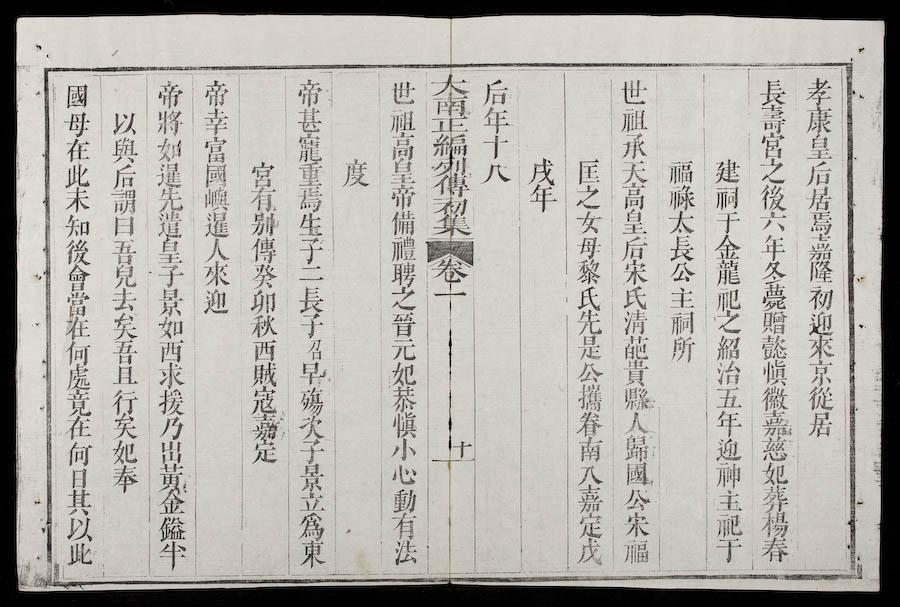c: (428, 72, 472, 98), (429, 134, 470, 159), (802, 75, 834, 106), (340, 157, 371, 189), (430, 174, 471, 198), (430, 215, 472, 238), (431, 257, 468, 283), (295, 540, 328, 569), (153, 287, 186, 316), (756, 77, 789, 106), (293, 77, 324, 107), (574, 538, 606, 567), (156, 541, 188, 570), (153, 79, 185, 108), (803, 106, 836, 134), (155, 465, 188, 493), (152, 108, 185, 136), (758, 411, 793, 437), (428, 97, 471, 118), (200, 78, 231, 107), (480, 78, 511, 107), (295, 386, 326, 415), (526, 157, 557, 186), (108, 387, 140, 415), (108, 465, 140, 493), (758, 283, 790, 311), (712, 462, 744, 490), (248, 387, 280, 415), (155, 387, 187, 415), (248, 414, 281, 441), (757, 537, 791, 563), (247, 211, 281, 237), (156, 439, 187, 467), (805, 411, 836, 439), (109, 312, 140, 340), (296, 463, 327, 491), (757, 105, 788, 133), (293, 134, 324, 162), (247, 160, 278, 188), (200, 108, 231, 136), (618, 78, 649, 106), (295, 285, 326, 313), (711, 157, 742, 185), (621, 435, 653, 462), (803, 134, 835, 161), (294, 237, 326, 264), (295, 513, 327, 540), (620, 539, 652, 566), (620, 511, 652, 538), (154, 211, 186, 238), (757, 184, 789, 211), (152, 238, 185, 264), (247, 237, 280, 263), (388, 79, 418, 107), (387, 133, 417, 161), (62, 264, 93, 291), (62, 363, 93, 390), (63, 488, 94, 515), (618, 107, 649, 134), (575, 486, 606, 513), (757, 132, 788, 159), (575, 384, 606, 411), (713, 410, 744, 437), (201, 211, 232, 238), (665, 158, 696, 185), (63, 515, 95, 541), (62, 390, 94, 416), (156, 515, 188, 541), (621, 461, 653, 487), (804, 360, 836, 386), (61, 238, 93, 264), (758, 360, 790, 386), (526, 186, 558, 212), (758, 335, 790, 361), (665, 185, 697, 211), (758, 512, 791, 537), (153, 137, 186, 162), (429, 158, 472, 177), (62, 81, 91, 109), (109, 109, 139, 136), (390, 539, 420, 566), (109, 136, 139, 163), (200, 136, 230, 163), (201, 288, 231, 315), (389, 487, 419, 514), (713, 260, 743, 287), (713, 335, 743, 362), (667, 337, 697, 364), (667, 235, 697, 262), (389, 411, 419, 438), (109, 414, 140, 440), (293, 107, 324, 133), (386, 161, 417, 187), (759, 486, 790, 512), (109, 439, 140, 465), (61, 110, 92, 136), (575, 437, 606, 463), (805, 285, 836, 311), (574, 411, 605, 437), (201, 261, 232, 287), (618, 134, 649, 160), (248, 263, 279, 289), (759, 386, 790, 412), (803, 186, 835, 211), (712, 538, 744, 563), (155, 362, 187, 387), (759, 438, 791, 463), (249, 441, 281, 466), (61, 213, 93, 238), (621, 387, 653, 412), (480, 108, 512, 133), (153, 162, 185, 187), (247, 314, 279, 339), (428, 117, 472, 135), (479, 162, 512, 186), (574, 157, 602, 185), (389, 312, 418, 339), (388, 210, 417, 237), (62, 291, 92, 317), (619, 210, 649, 236), (63, 440, 93, 466), (295, 212, 325, 238), (620, 310, 650, 336), (389, 513, 419, 539), (758, 234, 788, 260), (712, 234, 742, 260), (387, 108, 417, 134), (574, 310, 604, 336), (388, 237, 418, 263), (431, 198, 472, 217), (804, 236, 835, 261), (803, 161, 834, 186), (575, 514, 606, 539), (64, 542, 95, 567), (805, 311, 836, 336), (805, 335, 836, 360), (620, 361, 651, 386), (805, 386, 836, 411), (61, 187, 92, 212), (713, 438, 744, 463), (713, 514, 744, 539), (62, 136, 93, 161), (757, 159, 788, 184), (480, 135, 511, 160), (249, 362, 280, 387), (248, 289, 279, 314), (619, 261, 650, 286), (108, 190, 140, 214), (61, 340, 93, 364), (61, 316, 93, 340), (62, 416, 94, 440), (247, 188, 279, 212), (712, 311, 744, 335), (758, 311, 790, 335), (296, 361, 328, 385), (665, 211, 697, 235), (431, 285, 469, 305), (574, 259, 603, 285), (297, 313, 326, 339), (619, 184, 648, 210), (667, 311, 696, 337), (109, 287, 139, 312), (156, 415, 186, 440), (109, 164, 139, 189), (294, 163, 324, 188), (62, 162, 92, 187), (713, 362, 743, 387), (575, 336, 605, 361), (388, 287, 418, 312), (621, 336, 651, 361), (619, 236, 649, 261), (667, 286, 697, 311), (388, 362, 418, 387), (573, 186, 603, 211), (156, 491, 187, 515), (296, 439, 327, 463), (294, 188, 325, 212), (759, 462, 790, 486), (154, 188, 185, 212), (201, 238, 232, 262), (618, 160, 649, 184), (804, 211, 836, 234), (621, 412, 653, 435), (574, 211, 603, 236), (389, 262, 418, 287), (712, 186, 741, 211), (389, 387, 418, 412), (110, 362, 140, 386), (109, 340, 139, 364), (805, 260, 835, 284), (156, 339, 186, 363), (201, 187, 231, 211), (714, 490, 744, 514), (713, 386, 743, 410), (387, 186, 417, 210), (296, 415, 326, 439), (713, 288, 743, 312), (296, 492, 327, 515), (155, 317, 186, 340), (154, 265, 186, 287), (757, 211, 789, 233), (110, 263, 138, 288), (575, 286, 603, 311), (109, 239, 138, 263), (621, 286, 650, 310), (712, 211, 742, 234), (622, 487, 652, 510), (389, 463, 419, 486), (667, 261, 697, 284), (388, 439, 419, 461), (575, 236, 603, 260), (759, 260, 788, 283), (249, 339, 278, 362), (389, 339, 418, 362), (109, 215, 139, 237), (575, 464, 605, 486), (575, 362, 605, 384), (201, 164, 229, 187), (301, 338, 326, 361), (64, 467, 91, 488), (295, 266, 325, 284), (452, 439, 473, 458)
